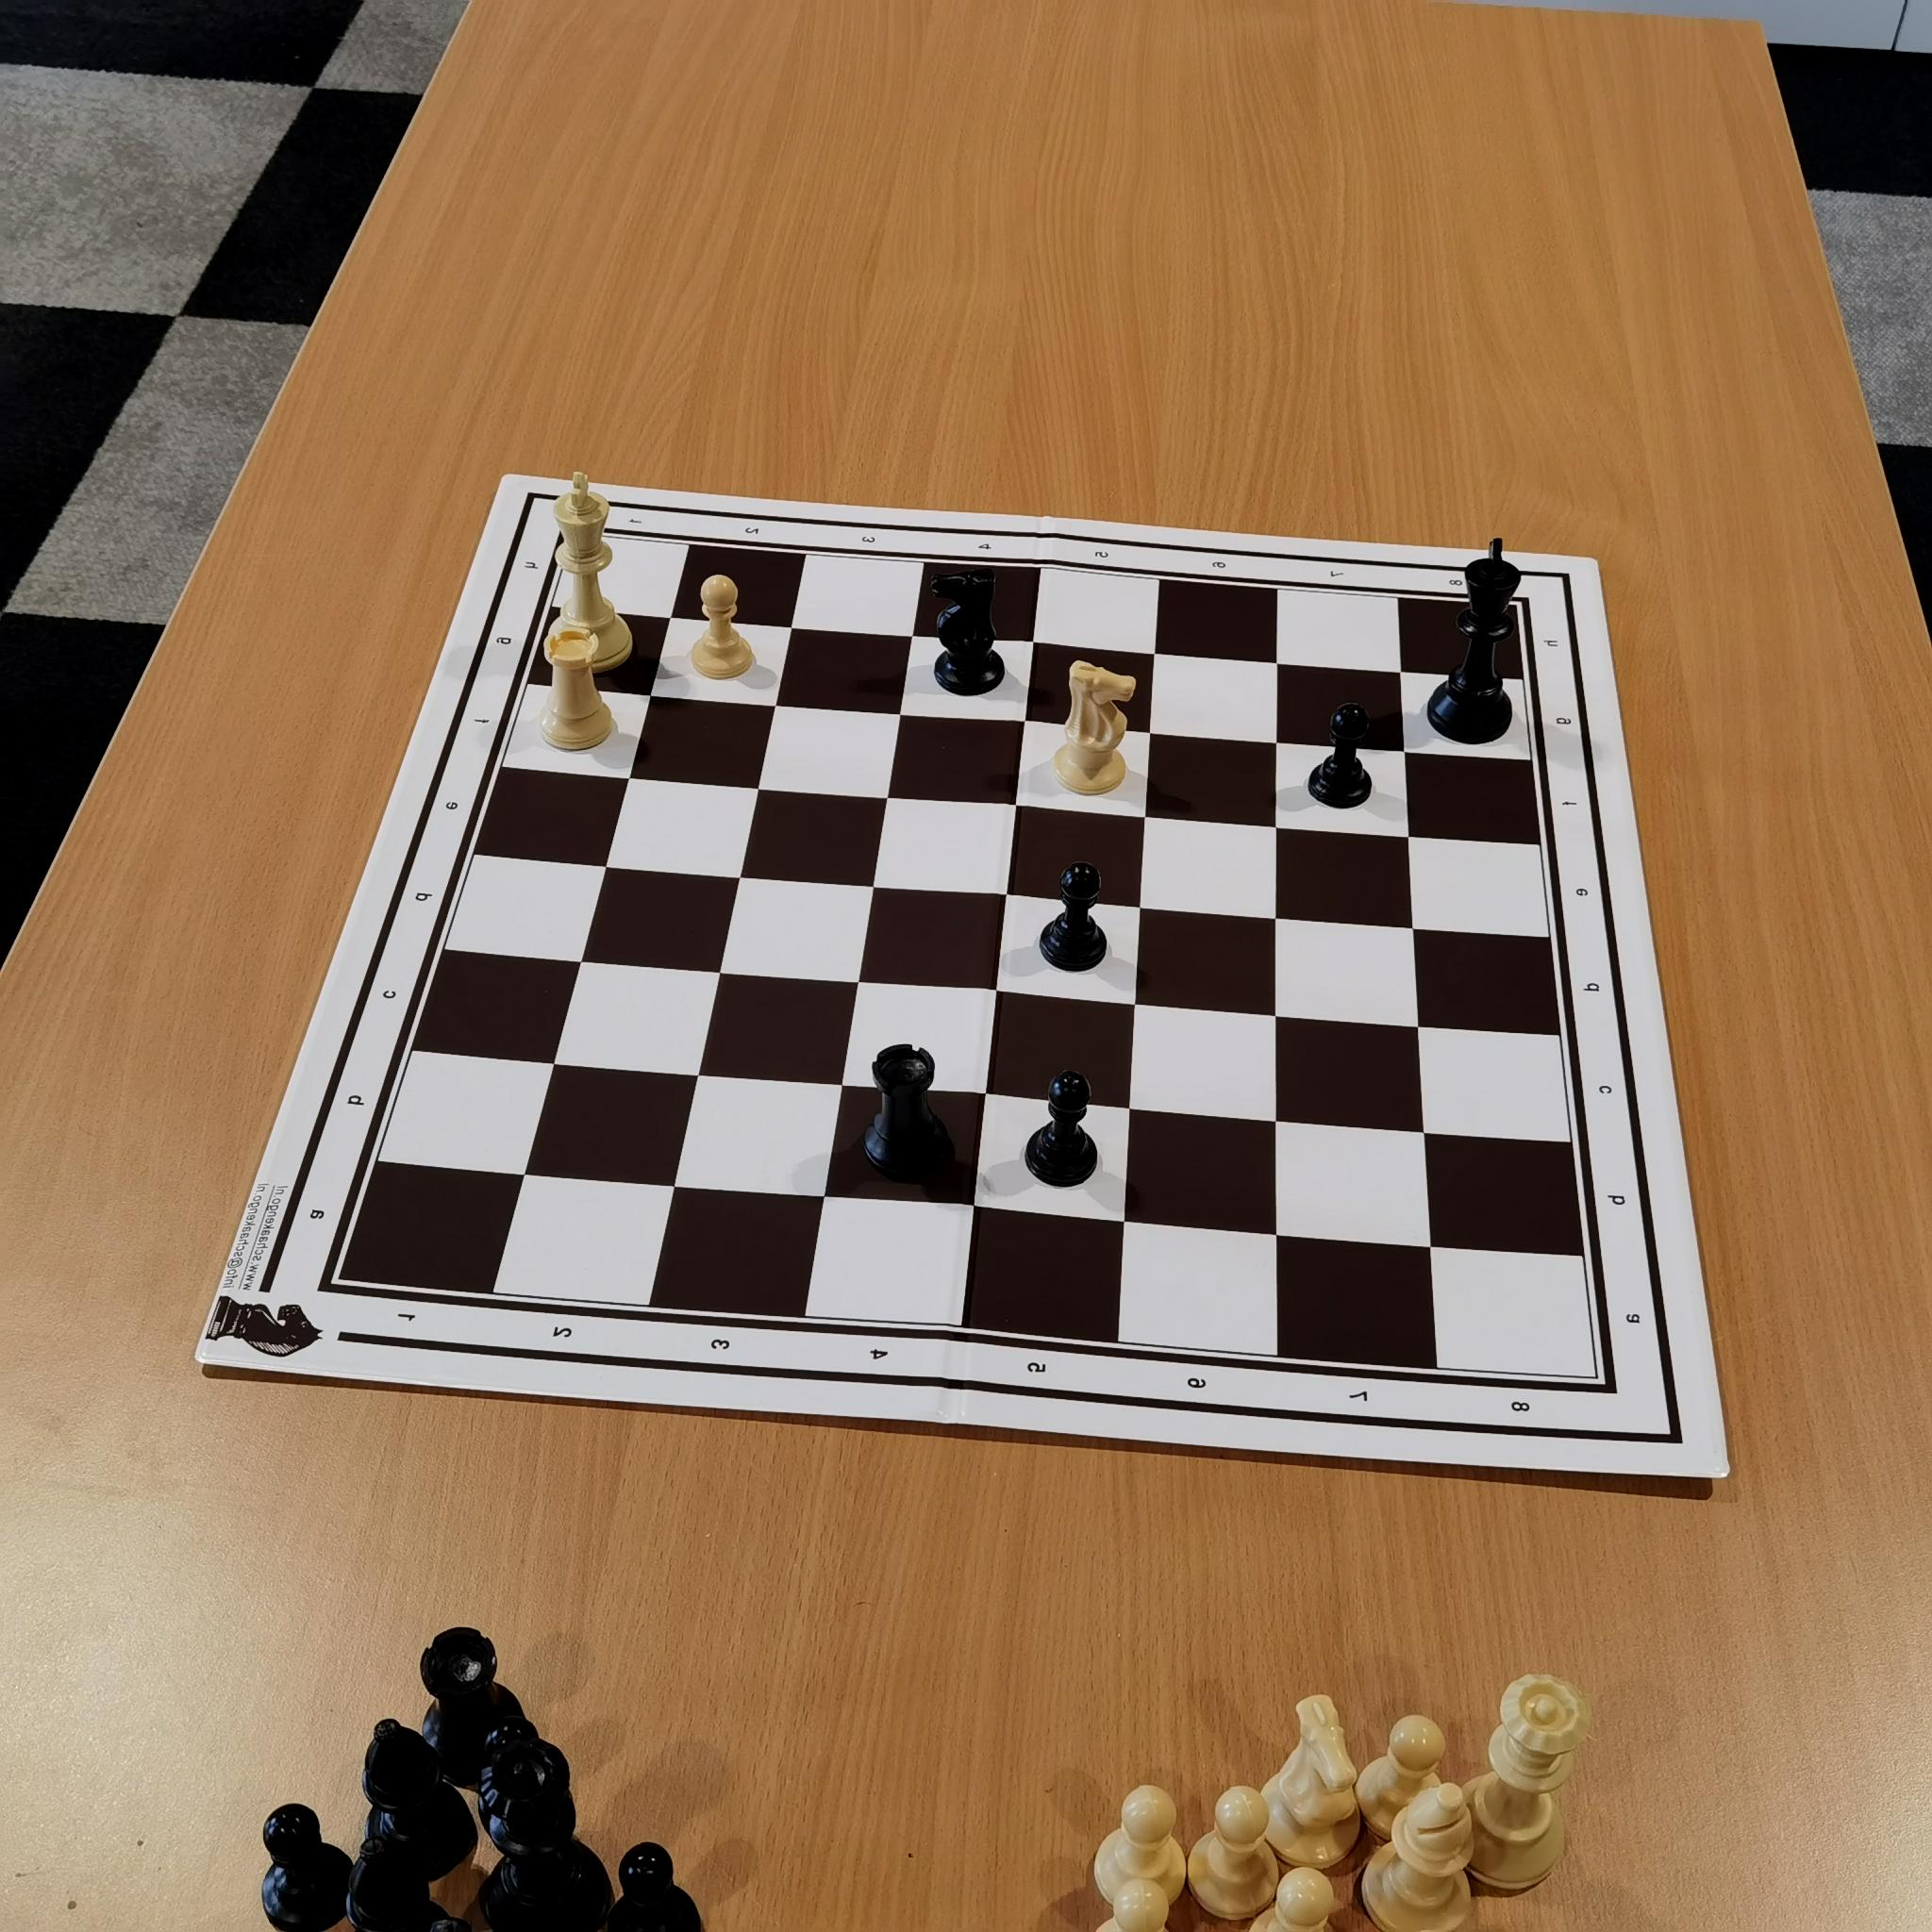corners: (1565, 1345, 1627, 1409), (317, 1257, 361, 1295), (550, 508, 588, 549), (1497, 589, 1537, 622)
eight: (1491, 1374, 1542, 1431), (1438, 564, 1475, 595)
one: (381, 1289, 430, 1341), (622, 509, 653, 539)
